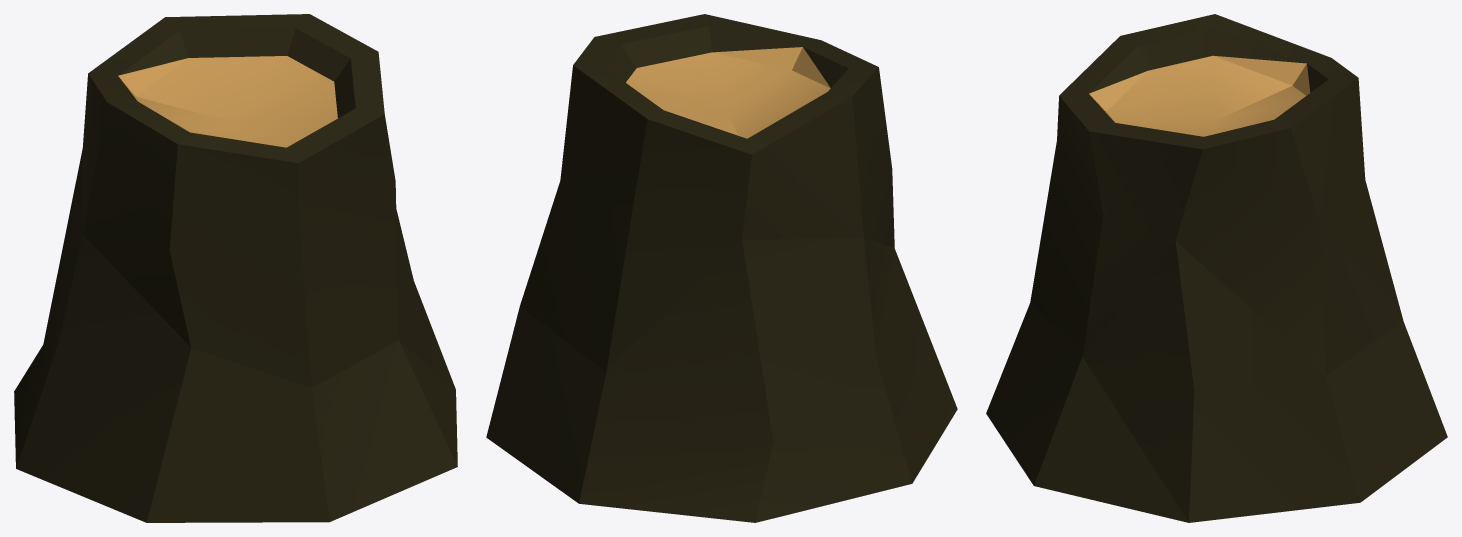
File: OakStumpB.fbx
3 renders of one model, left to right at view 1: azimuth 30°, elevation 25°; view 2: azimuth 150°, elevation 25°; view 3: azimuth 270°, elevation 25°, orthographic. The views are drawn at different scales.
Visible parts, largest first — view 1: OakBrokenB; view 2: OakBrokenB; view 3: OakBrokenB.
Part boxes in pixels (x1,y1,x2,y2): OakBrokenB: (14, 14, 457, 522); OakBrokenB: (486, 14, 957, 522); OakBrokenB: (986, 14, 1447, 522).
Bounding box in the file's own units: 149 × 125 × 149.
